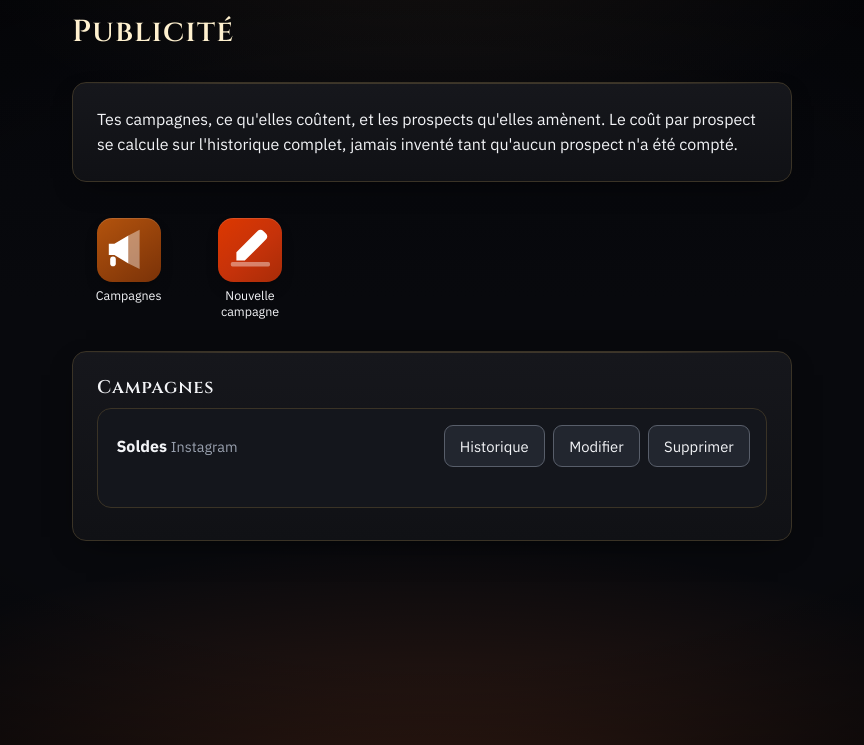
Scenario: PublicitePage › modifie une campagne via le formulaire en ligne
The image size is (864, 745).
Expected: the text "Soldes" is shown, [116,436,167,456]
Click the button "Modifier".
click(596, 446)  # box [553,425,640,467]
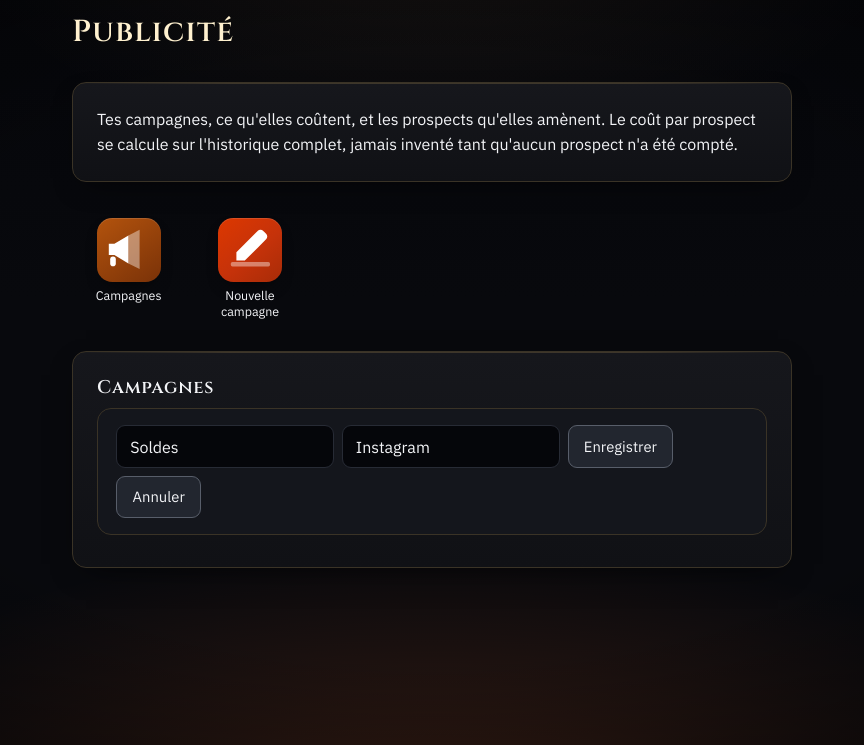
Replace the text in the field named "Nom de Soldes" with "Soldes hiver" at (225, 447), box [116,425,334,468]
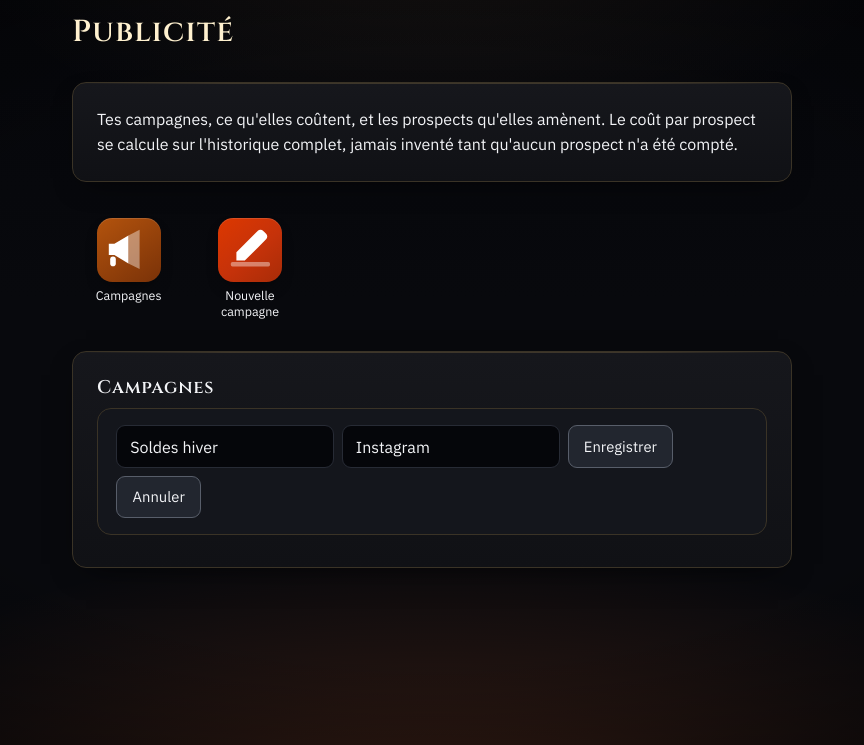
Click the button "Enregistrer".
click(620, 447)  # box [568,425,673,468]
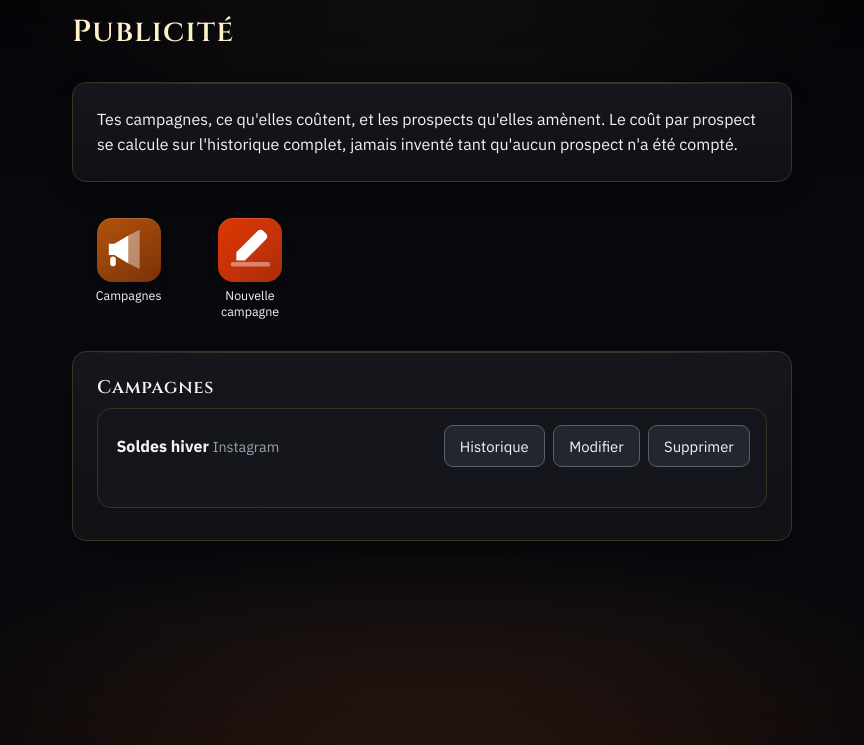
Result: the text "Soldes hiver" is shown at [116,436,209,456]
